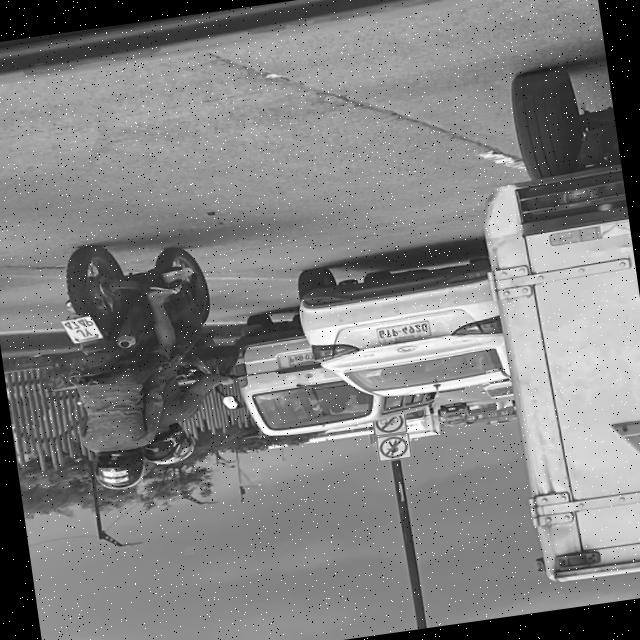Placa: (377, 320, 431, 343), (288, 351, 315, 365)
